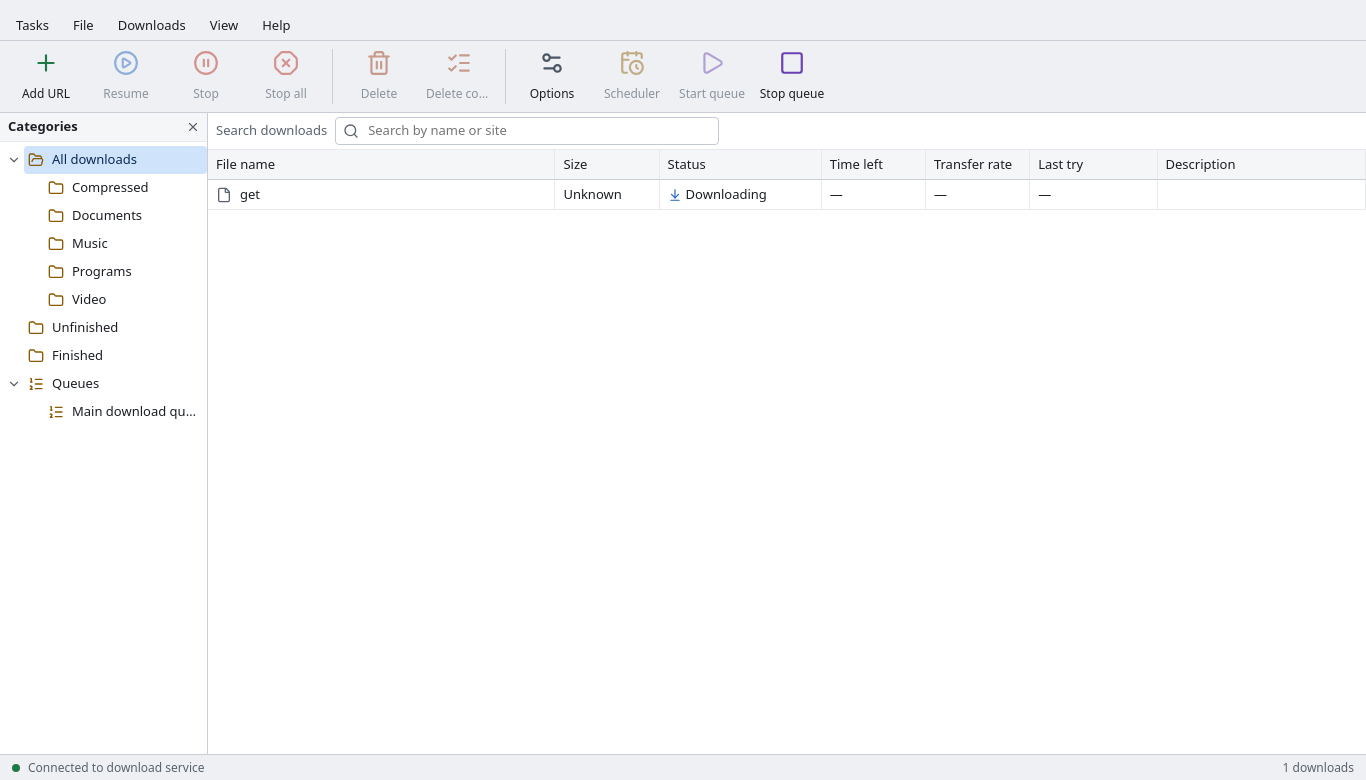
Scenario: live download list › keeps the row and its selection when the service renames the file
Click the button "get" at coordinates (224, 195), box left=216, top=185, right=546, bottom=204
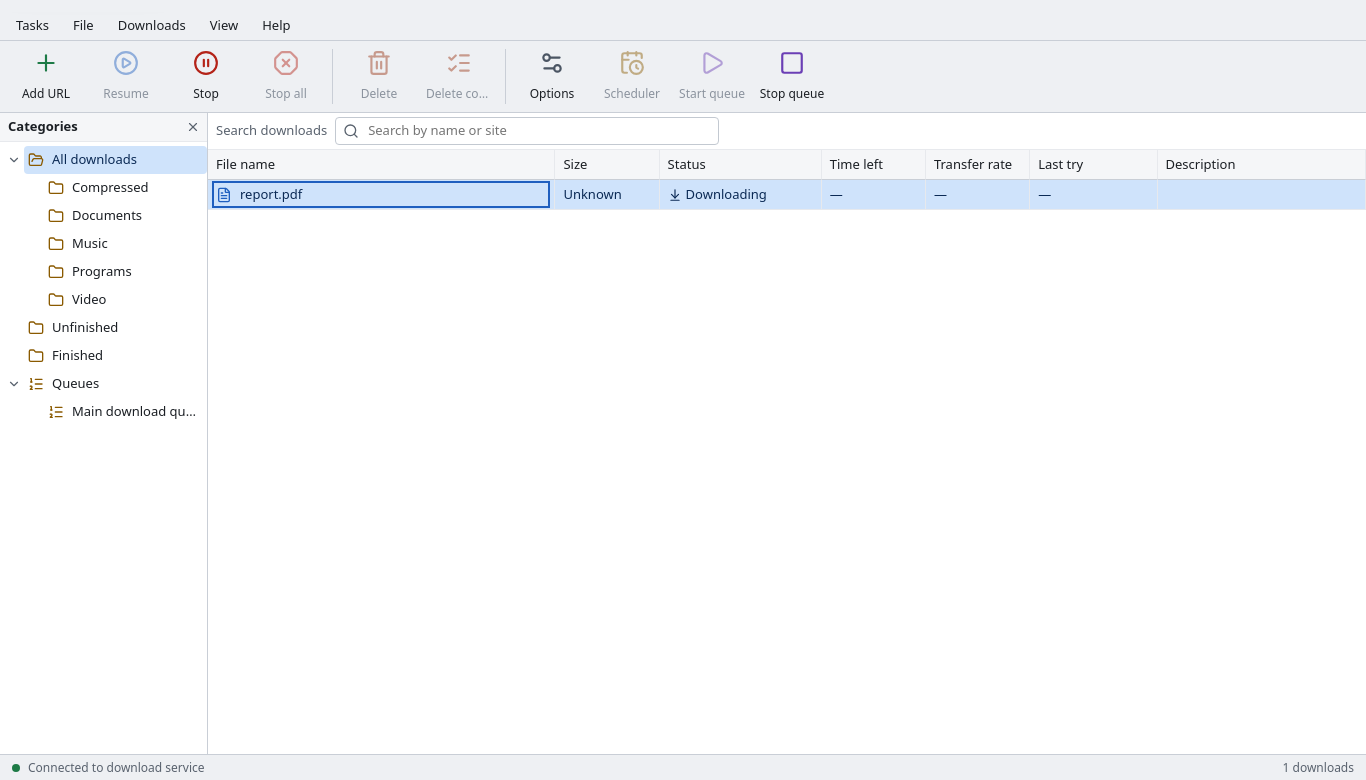
Expected: the button "get" is gone
